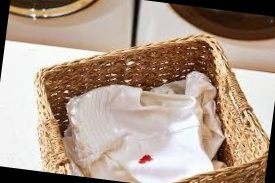blood: (137, 151, 153, 167)
